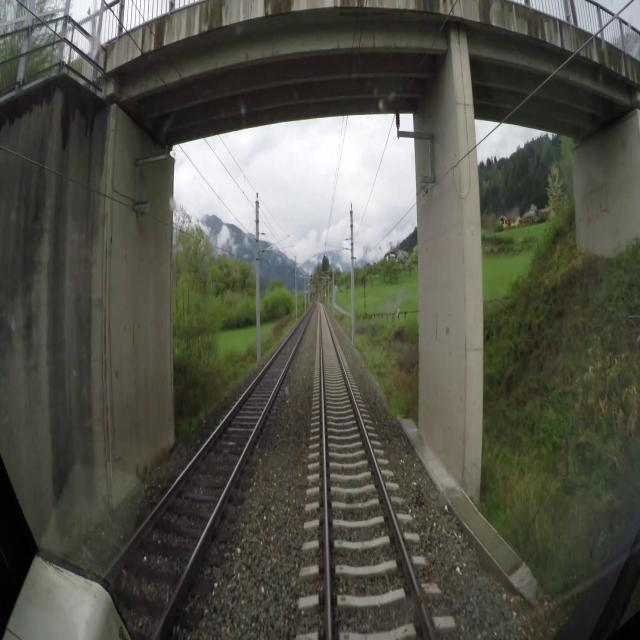rail-track: (106, 309, 312, 639), (321, 305, 431, 639)
